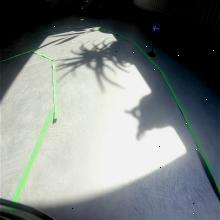left: (151, 22, 161, 35)
